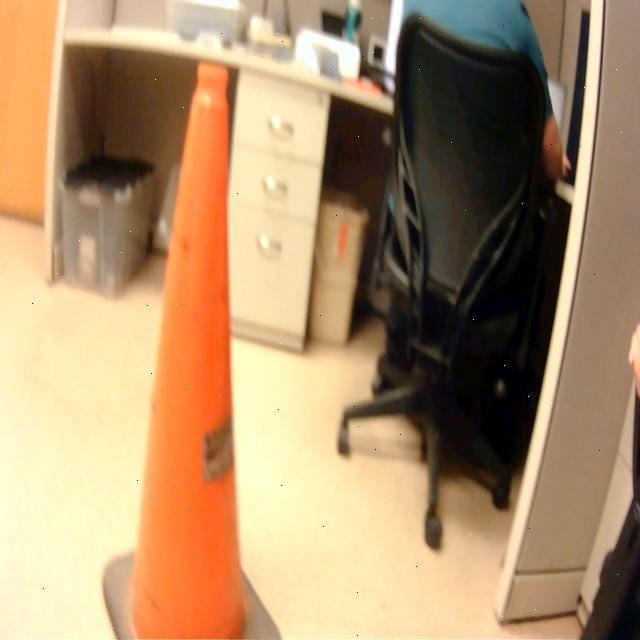traffic cone: (98, 56, 296, 640)
